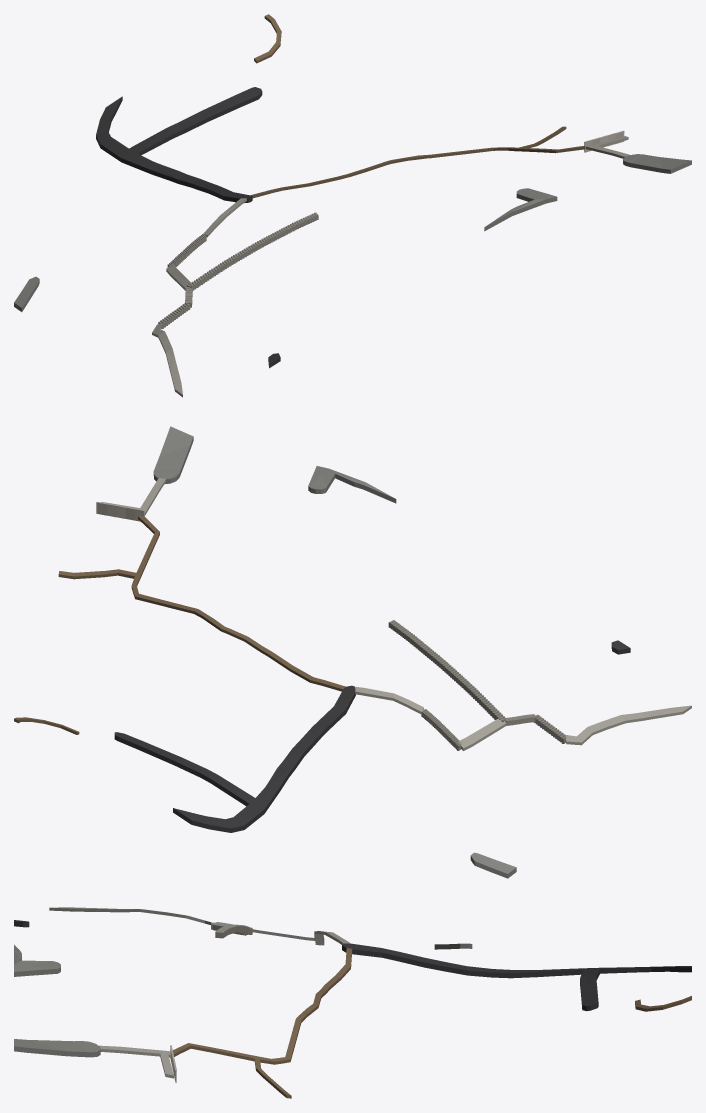
3 renders of one model, top to bottom at view 1: azimuth 30°, elevation 25°; view 2: azimuth 150°, elevation 25°; view 3: azimuth 270°, elevation 25°, orthographic. The views are drawn at different scales.
Size of the model in its own units: 147 by 45.56 by 146.
